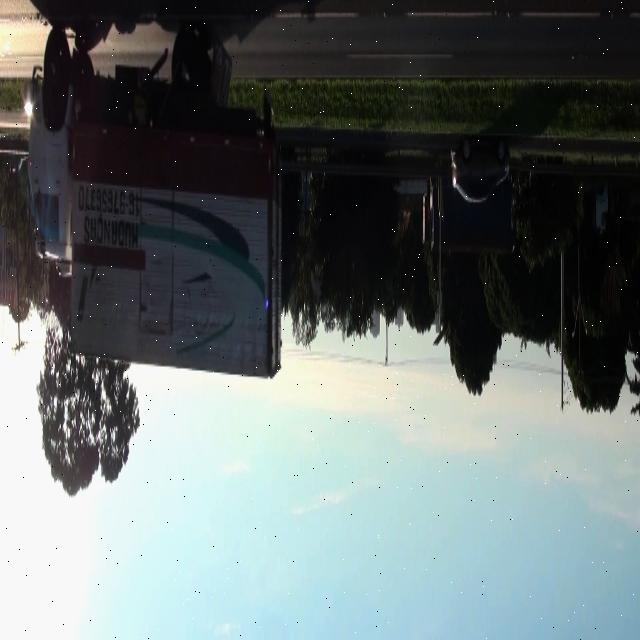-axle: (169, 31, 199, 125), (41, 27, 69, 113)
